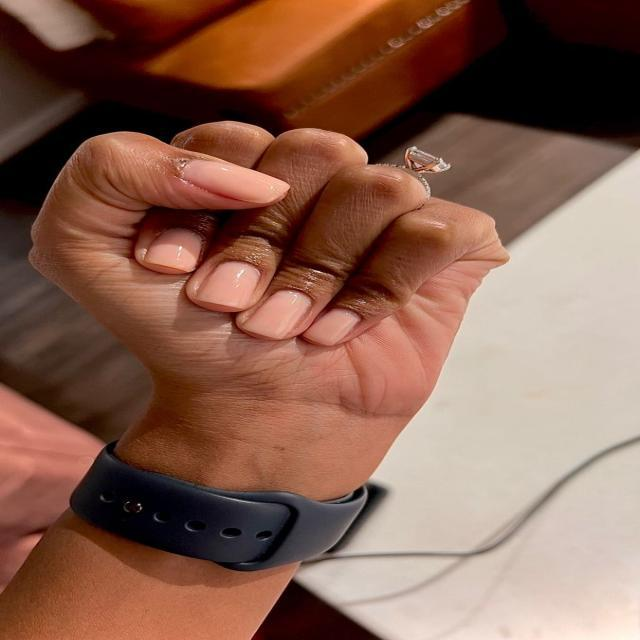Fingernail: (181, 159, 290, 204), (242, 290, 313, 337), (195, 261, 259, 307), (146, 228, 202, 271), (308, 308, 359, 344)
